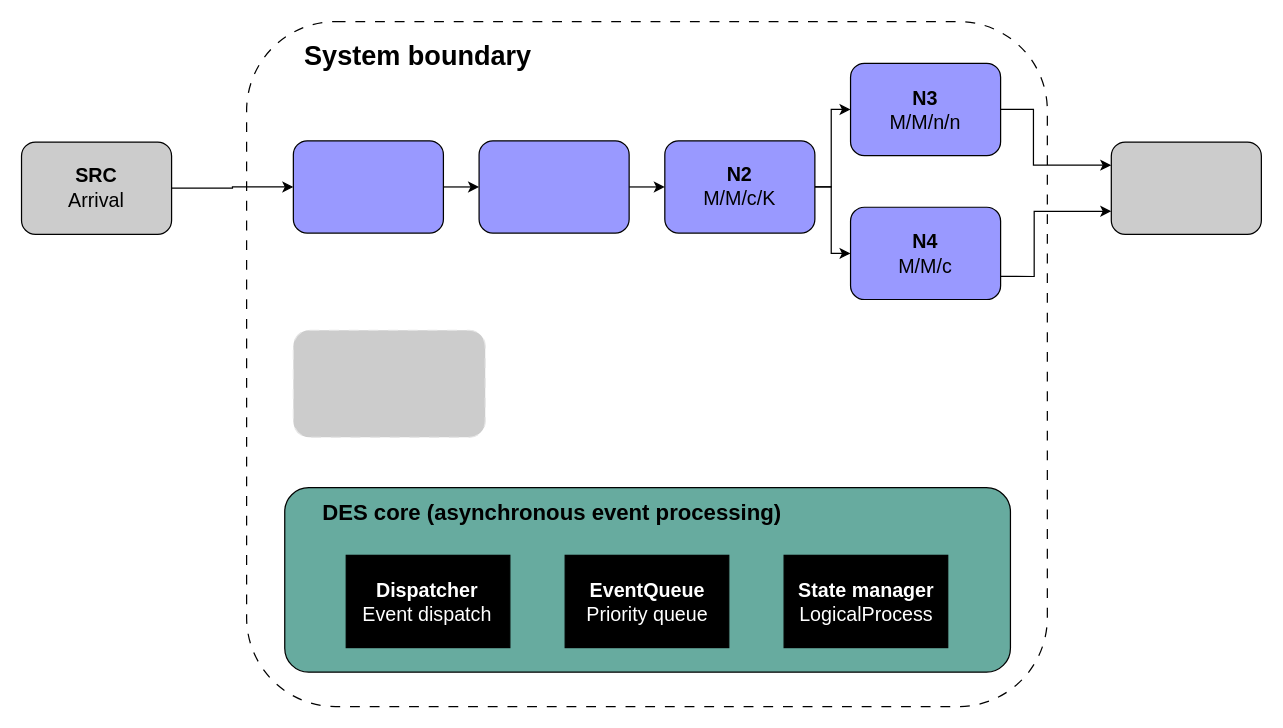
This 1283x728 diagram has some shape labels left out. Here are the shapes that lost their labels. From the top down, the box of each, then its label:
(292, 140, 443, 233): N1 M/M/1/K
(478, 140, 629, 233): L1 M/M / ∞
(1110, 141, 1261, 234): SNK Depareture
(292, 329, 485, 437): M/M/1 Baseline node
